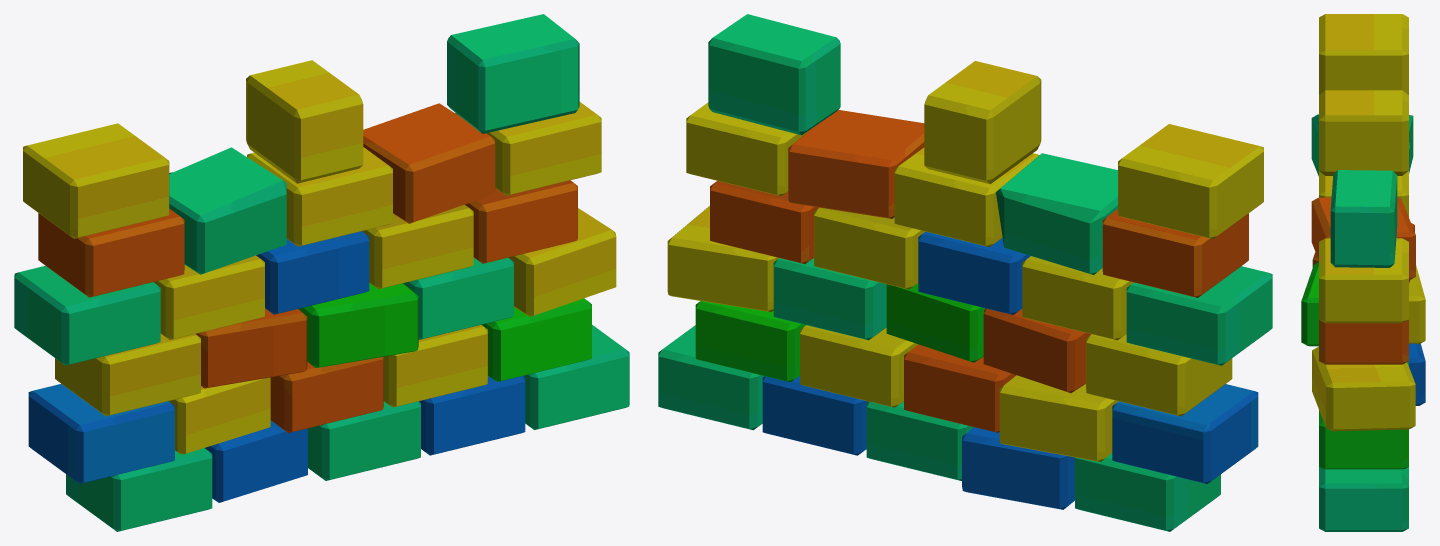
The model's file is brickwall.fbx.
3 views of the same model, side by side, from view 1: azimuth 30°, elevation 25°; view 2: azimuth 150°, elevation 25°; view 3: azimuth 270°, elevation 25° (orthographic). The views are drawn at different scales.
Parts seen in each view (by area): view 1: Cube.005; view 2: Cube.005; view 3: Cube.005.
Part boxes in pixels (x1,y1,x2,y2): Cube.005: [14, 14, 629, 531]; Cube.005: [658, 14, 1272, 531]; Cube.005: [1301, 14, 1425, 531].
Bounding box in the file's own units: 976 × 621 × 225.
